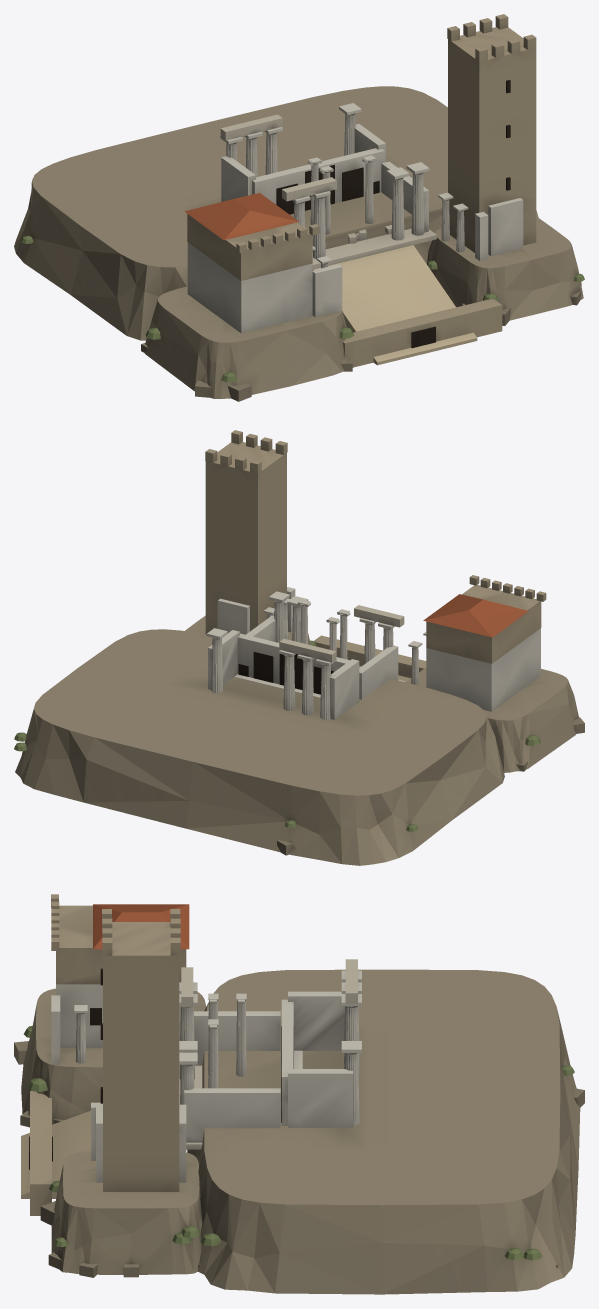
File: propylaia-1680.glb
3 renders of one model, top to bottom at view 1: azimuth 30°, elevation 25°; view 2: azimuth 150°, elevation 25°; view 3: azimuth 270°, elevation 25°, orthographic. The views are drawn at different scales.
Visible parts, largest first — view 1: p0_rock, p1_columns, p3_towers, p2_entablature; view 2: p0_rock, p3_towers, p1_columns, p2_entablature; view 3: p0_rock, p1_columns, p3_towers, p2_entablature.
Part boxes in pixels (x1=…): p0_rock: x1=14, y1=86, x2=584, y2=401; p1_columns: x1=187, y1=103, x2=523, y2=367; p3_towers: x1=184, y1=14, x2=536, y2=280; p2_entablature: x1=220, y1=114, x2=391, y2=243; p0_rock: x1=14, y1=615, x2=584, y2=865; p3_towers: x1=205, y1=430, x2=546, y2=663; p1_columns: x1=206, y1=587, x2=540, y2=719; p2_entablature: x1=279, y1=605, x2=404, y2=662; p0_rock: x1=14, y1=969, x2=584, y2=1294; p1_columns: x1=29, y1=970, x2=361, y2=1215; p3_towers: x1=51, y1=894, x2=189, y2=1191; p2_entablature: x1=181, y1=959, x2=357, y2=1088.
Size of the model in its own units: 60.32 by 34.23 by 56.93.
